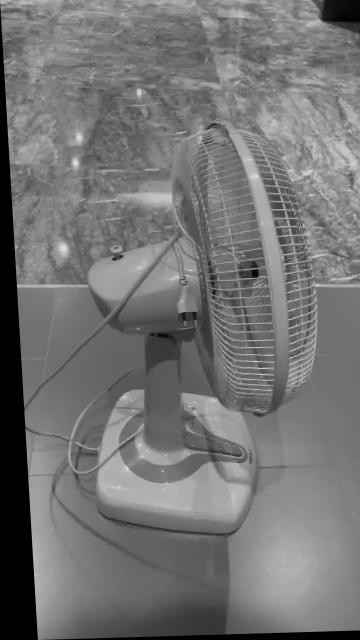Fan: (84, 124, 314, 538)
